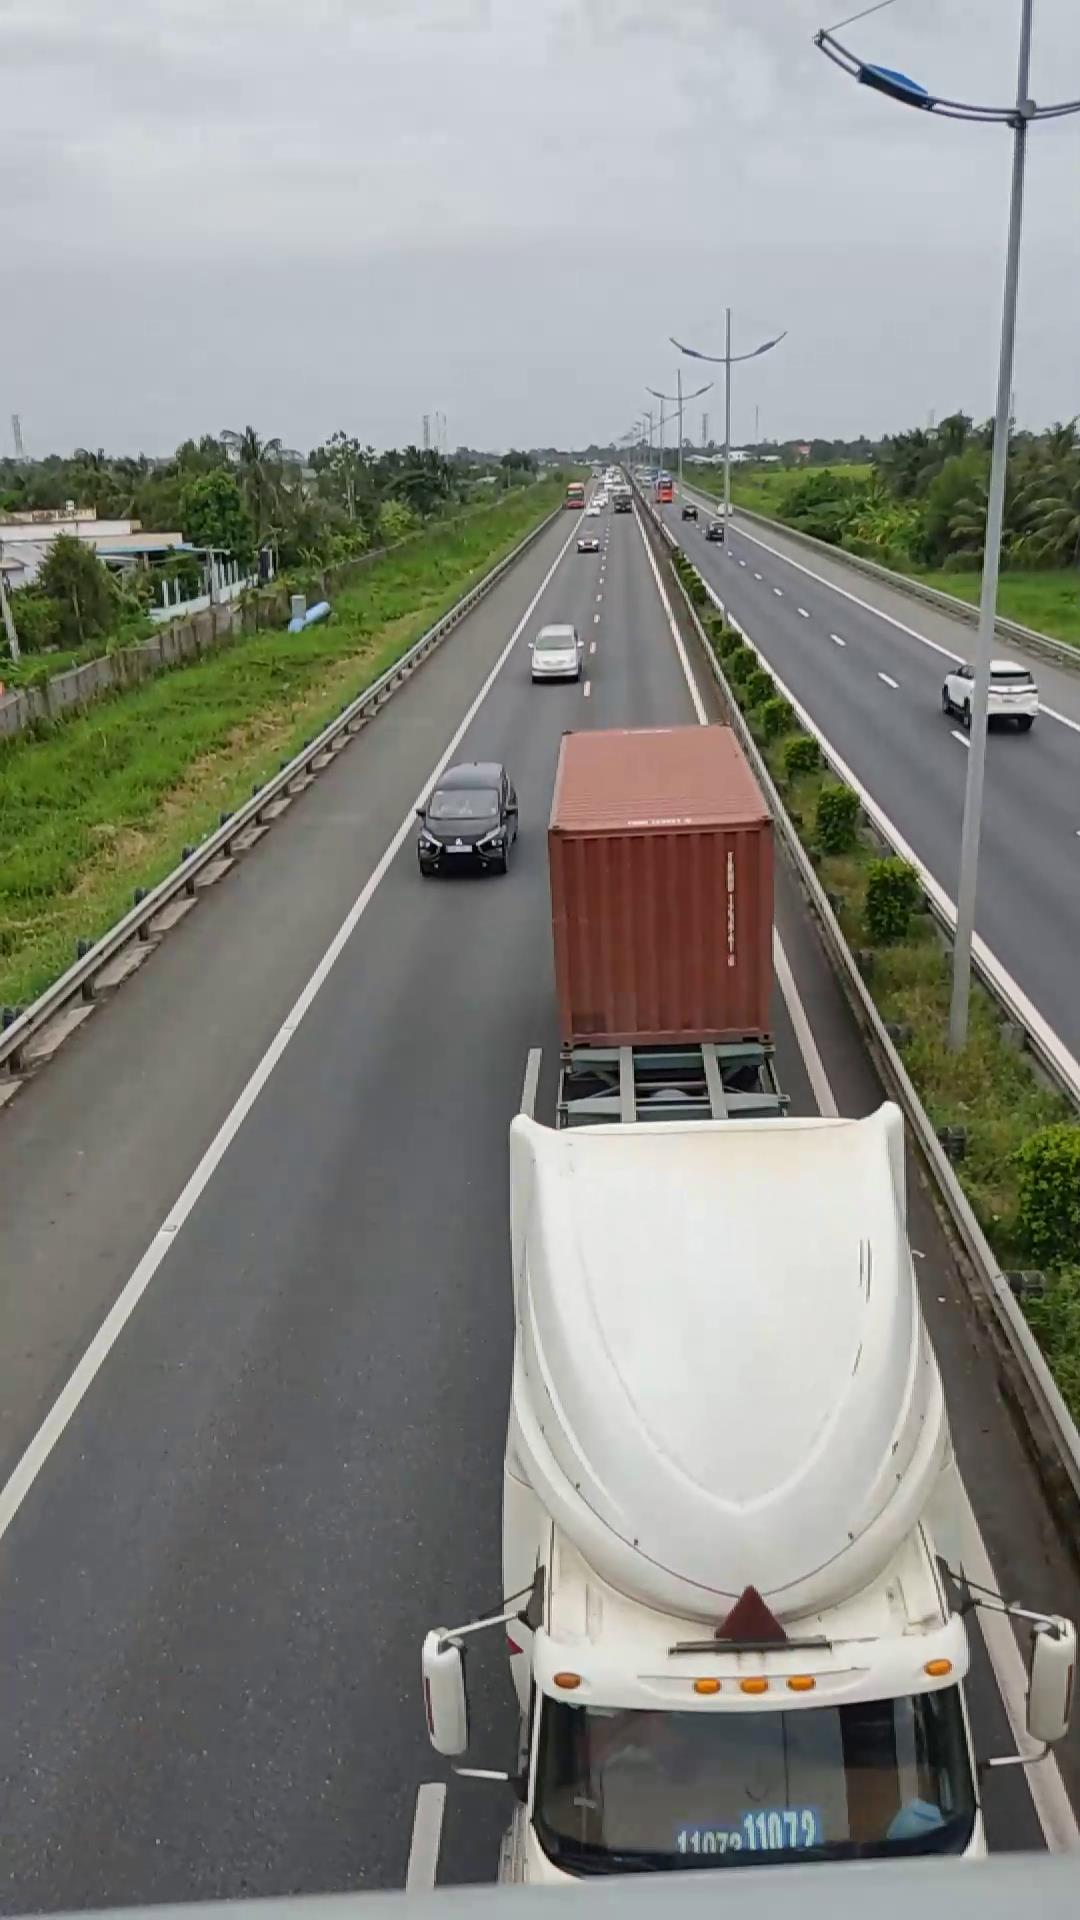car: (413, 760, 521, 876)
container: (488, 715, 989, 1884)
